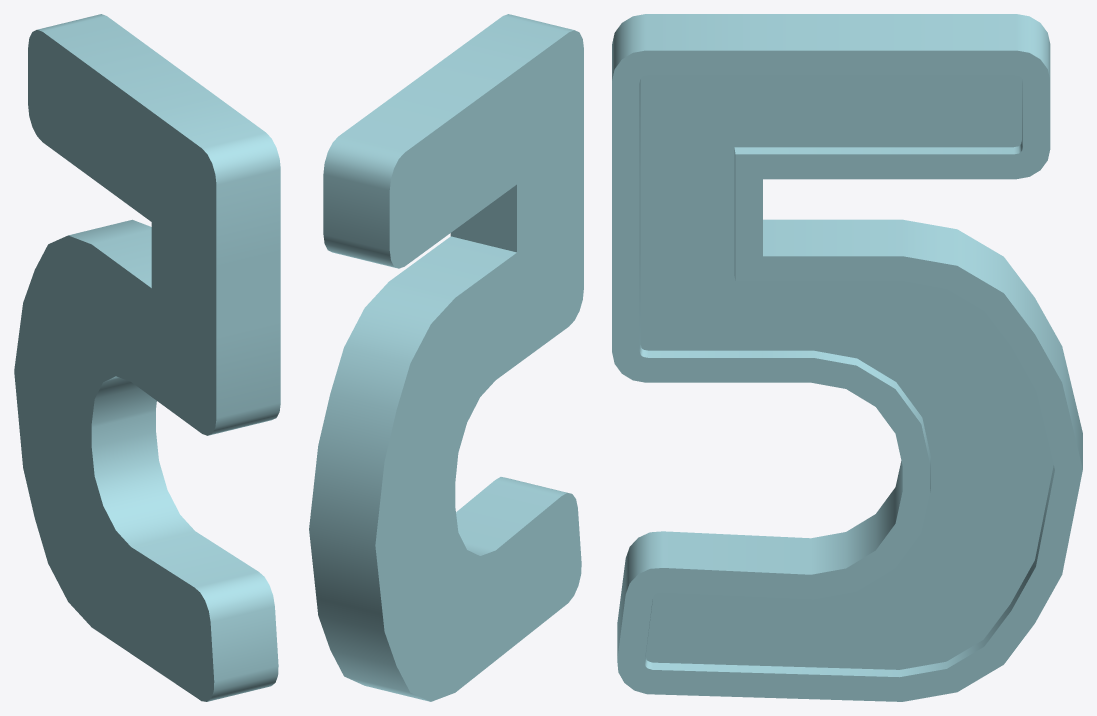
File: bonus_5_wh1.fbx
The picture shows the model from 3 angles, left to right: view 1: azimuth 30°, elevation 25°; view 2: azimuth 150°, elevation 25°; view 3: azimuth 270°, elevation 25°; orthographic projection. The views are drawn at different scales.
Visible parts, largest first — view 1: bonus_5; view 2: bonus_5; view 3: bonus_5.
Part boxes in pixels (x1,y1,x2,y2): bonus_5: (14, 14, 280, 701); bonus_5: (309, 14, 583, 701); bonus_5: (612, 14, 1082, 701).
Size of the model in its own units: 15.75 by 131 by 85.8.
